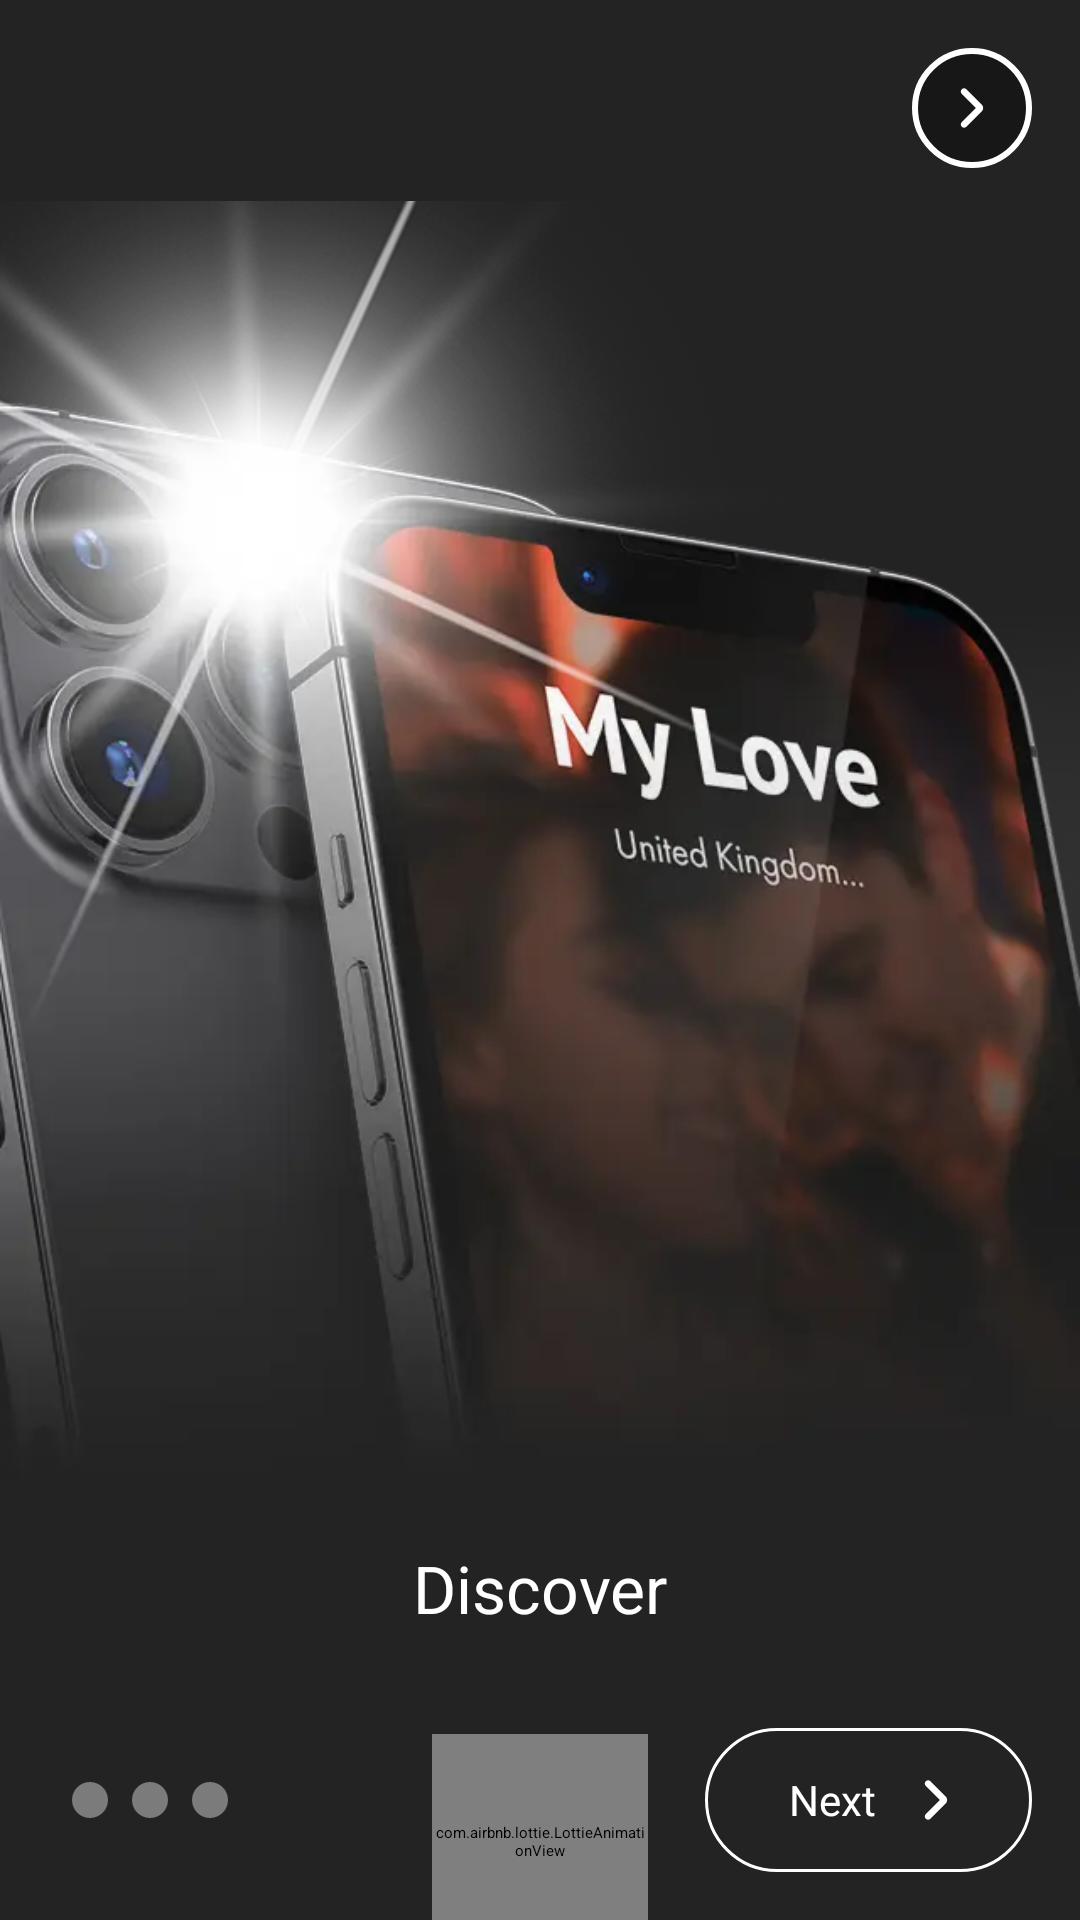

Named icons in this screenshot (1080×1920) and their centers, point (x, y):
arrow forward: point (971, 108), point (935, 1800)
dot: point (90, 1800), point (150, 1800), point (210, 1800)
